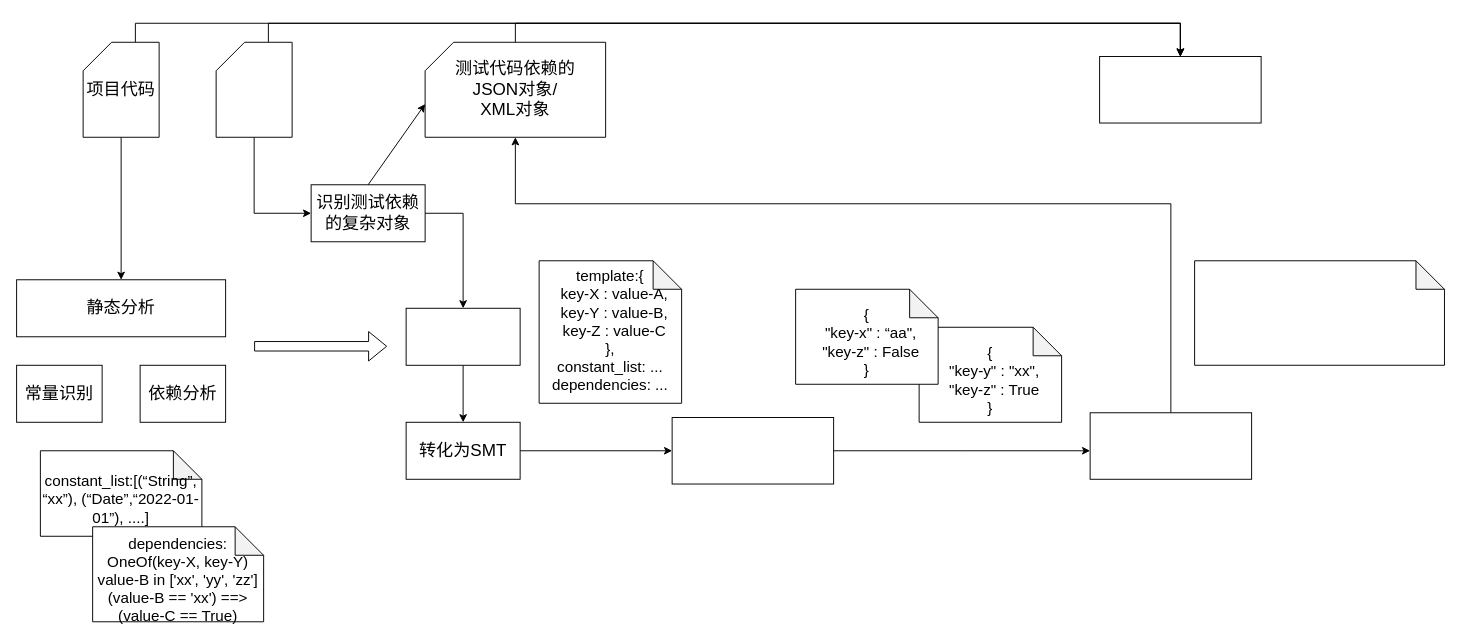
Some shapes in this 1461 by 642 pixel diagram are drawn without their labels. Here are the shapes that lost their labels. From the top down, the box of each, then its label:
(215, 41, 292, 137): 测试代码
(1099, 56, 1261, 123): 执行测试
(1194, 260, 1444, 365): { "name": "Bob", "gender": "male", "hobbies": ["swimming", "football"] }
(405, 307, 520, 365): 生成schema
(671, 417, 834, 484): 使用SMT Sampler 或者 CSP Solver求解
(1089, 412, 1252, 479): 求解结果转换回 生成的对象
